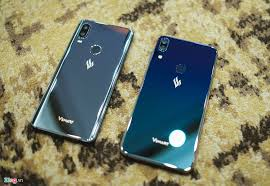vsmart: (117, 32, 219, 173), (29, 18, 131, 142)
